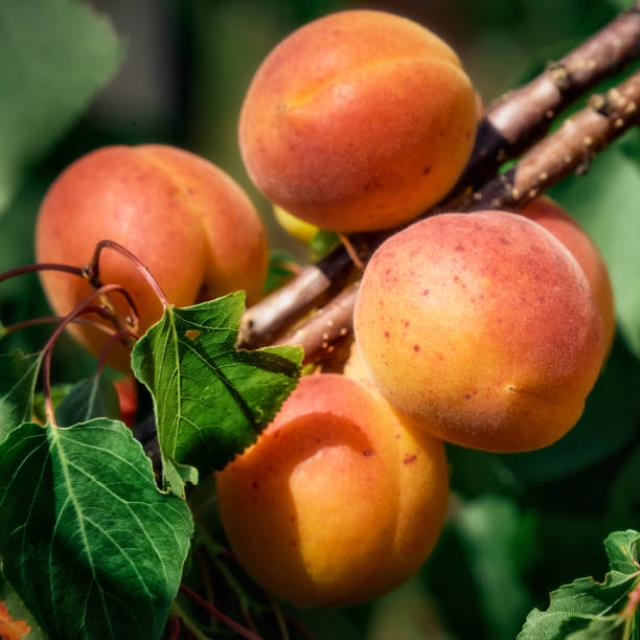kayisi: (359, 223, 640, 445), (232, 2, 492, 221), (9, 137, 286, 326), (242, 404, 464, 577)
yaprak: (2, 384, 182, 640), (0, 0, 143, 164), (151, 322, 296, 429), (544, 553, 640, 640)
